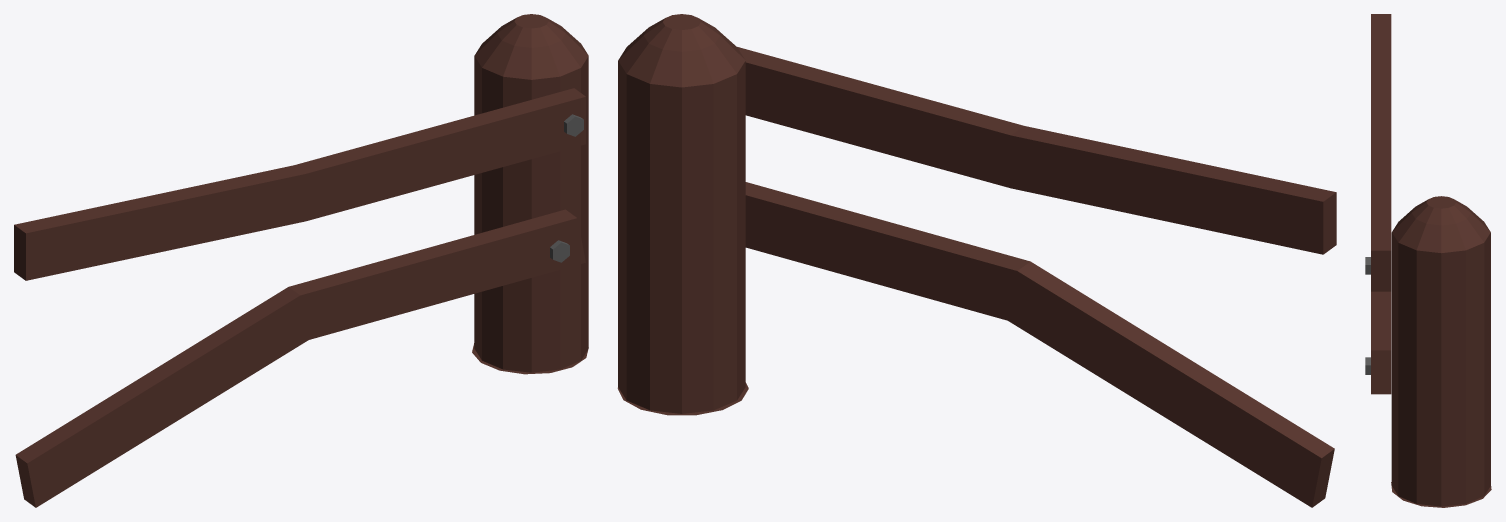
The model's file is fence_variation3.fbx.
3 renders of one model, left to right at view 1: azimuth 30°, elevation 25°; view 2: azimuth 150°, elevation 25°; view 3: azimuth 270°, elevation 25°, orthographic. The views are drawn at different scales.
Visible parts, largest first — view 1: Cylinder; view 2: Cylinder; view 3: Cylinder.
Part boxes in pixels (bbox=[...]): Cylinder: bbox=[14, 14, 588, 507]; Cylinder: bbox=[617, 14, 1336, 507]; Cylinder: bbox=[1365, 14, 1491, 507].
Size of the model in its own units: 481 by 254 by 102.
